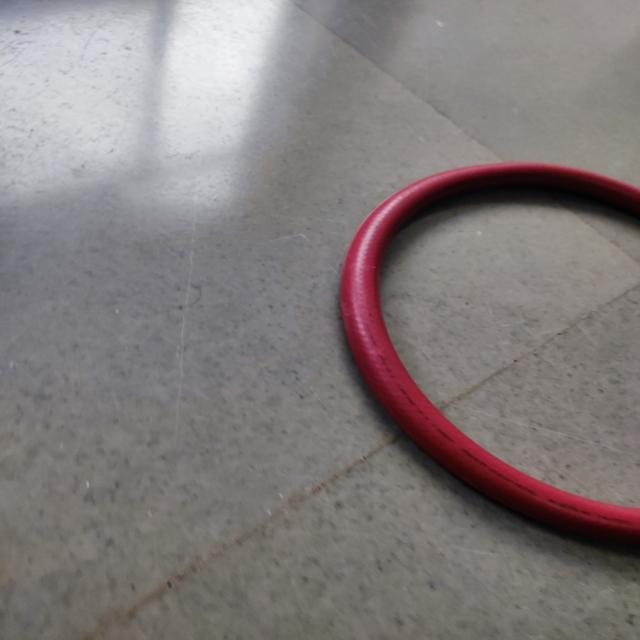daire: (343, 160, 640, 536)
